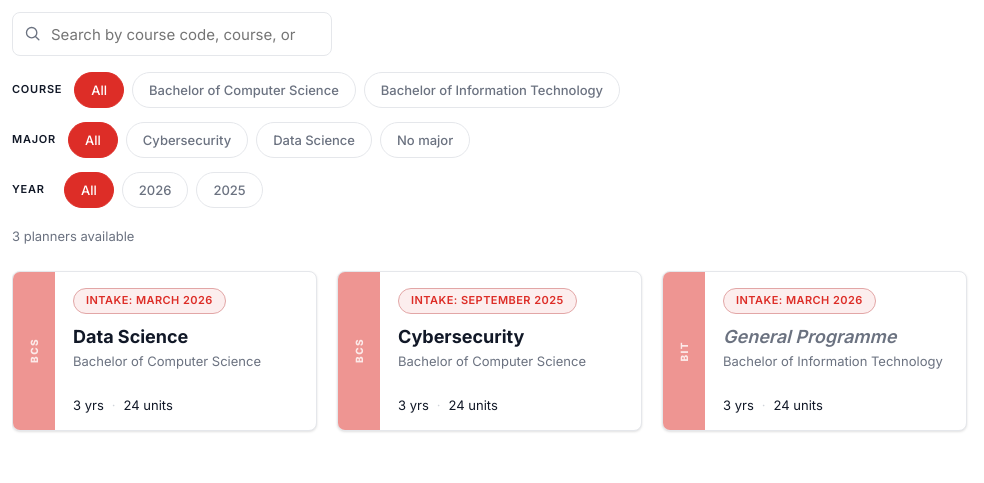
Test case: PlannerGrid › the course, major and year chips narrow the list together
The image size is (984, 483).
Click the button "Bachelor of Computer Science": (244, 90) [132,72,356,108]
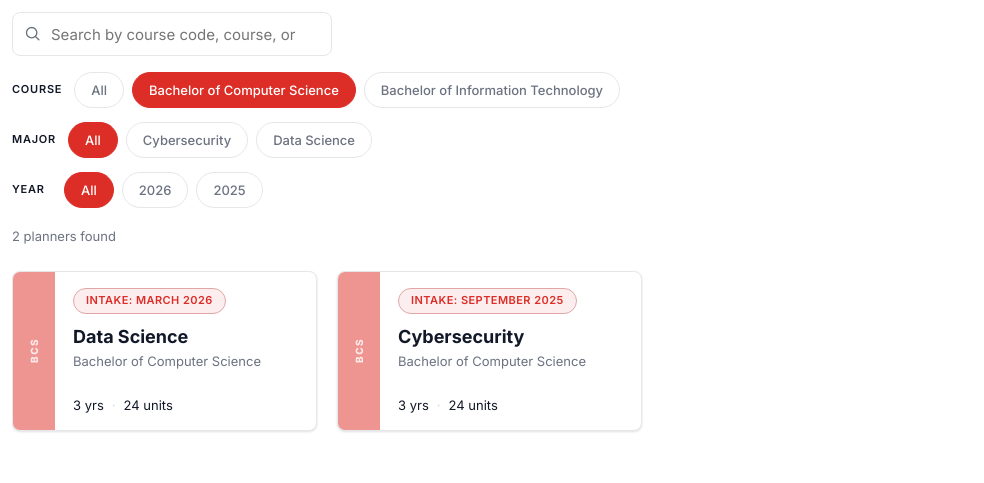
Click the button "Cybersecurity": (187, 140) [126,122,248,158]
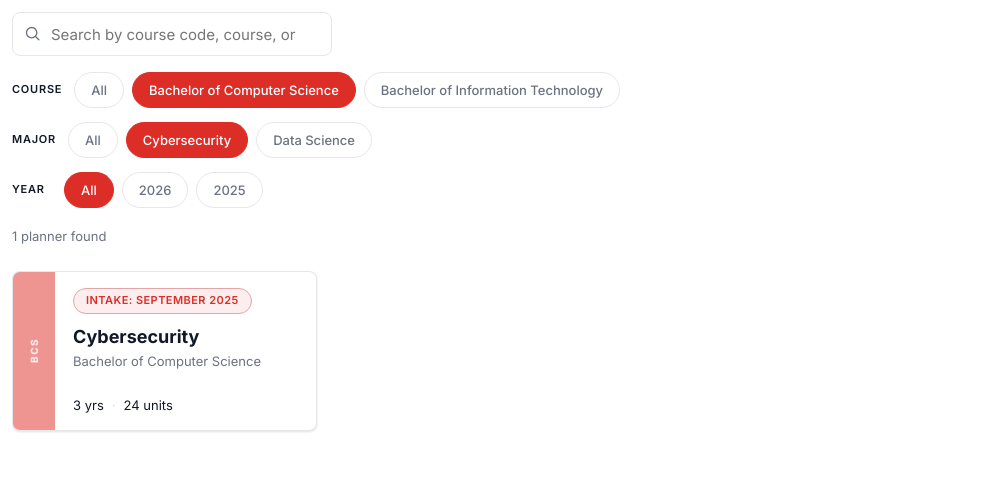
Click the button "2026": (155, 190) [122,172,188,208]
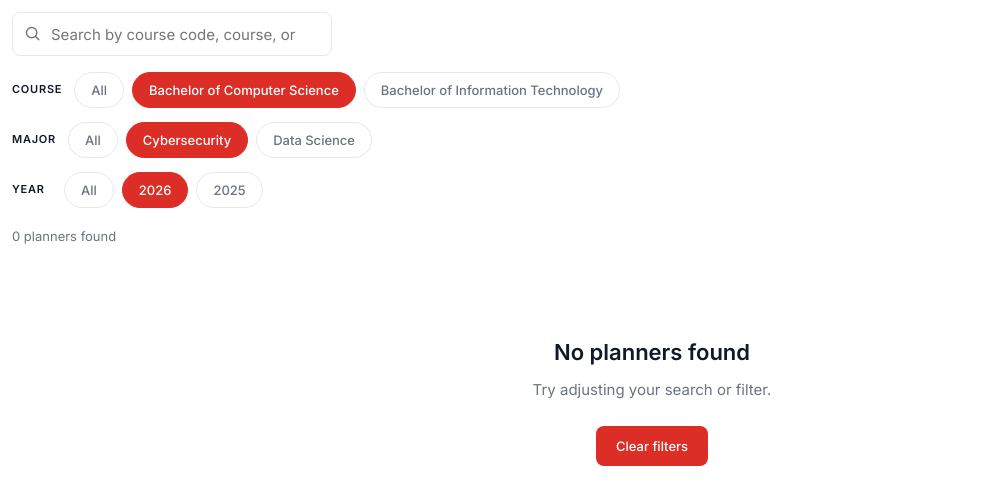
Result: the text "No planners found" is shown at [554,339,750,365]
